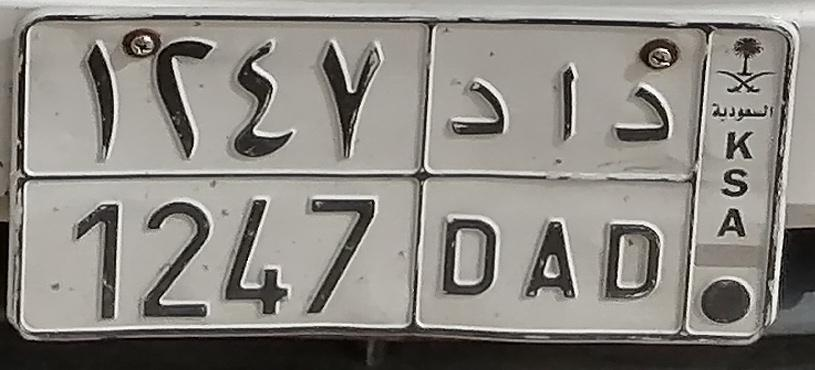1: (67, 33, 131, 322)
2: (135, 34, 214, 322)
4: (215, 32, 297, 324)
7: (298, 32, 388, 316)
A: (524, 62, 592, 304)
D: (435, 74, 519, 302), (600, 78, 679, 304)
